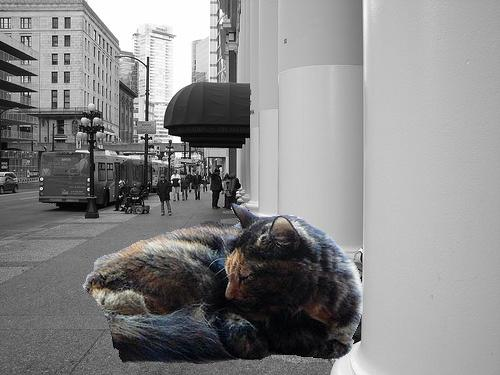tampered: (83, 204, 363, 364)
